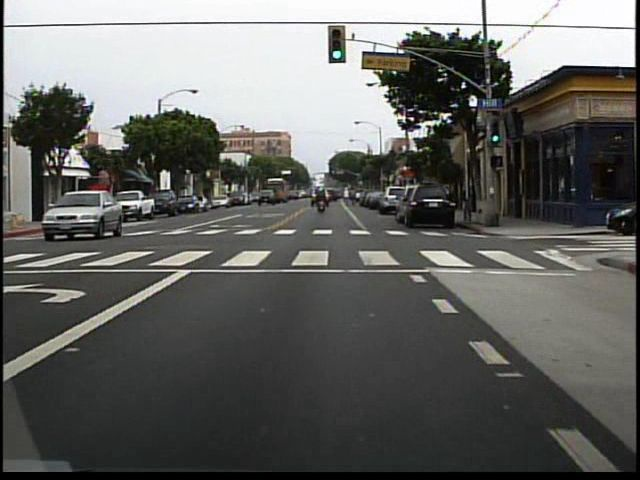person: (315, 187, 329, 215)
